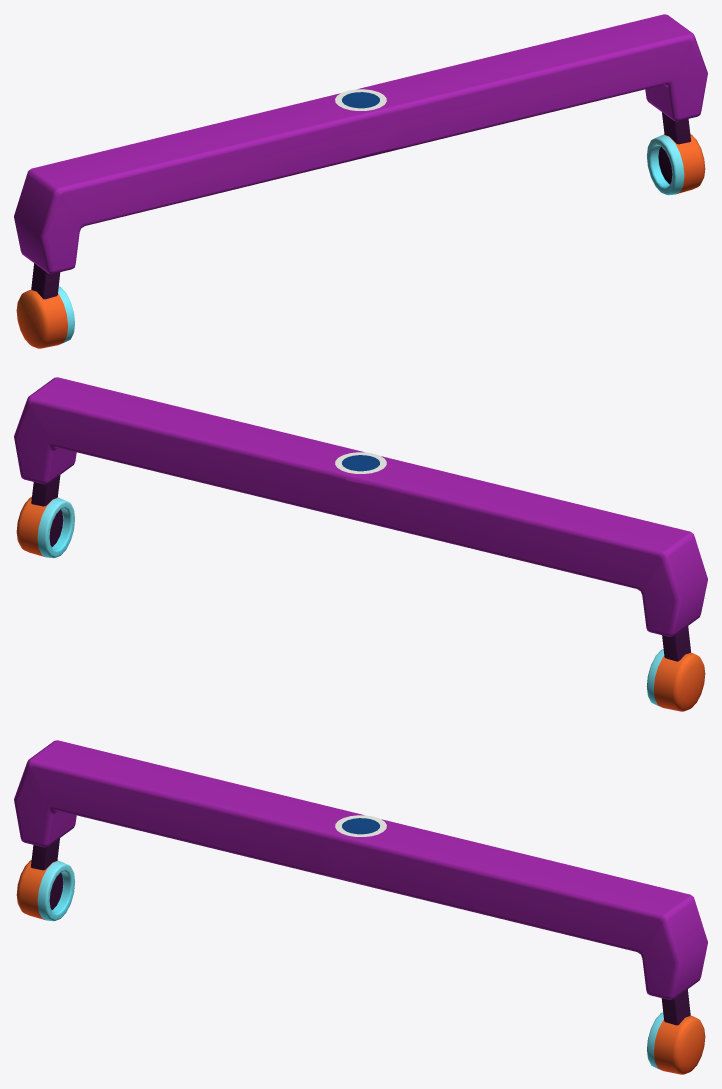
3 views of the same model, one above another, from view 1: azimuth 30°, elevation 25°; view 2: azimuth 150°, elevation 25°; view 3: azimuth 330°, elevation 25° (orthographic).
Parts seen in each view (by area): view 1: shape2_7, top_cycle; view 2: shape2_7, top_cycle; view 3: shape2_7, top_cycle.
Boxes of the visible parts, box(x1,y1,x2,y2) form: shape2_7: box(14, 14, 707, 348); top_cycle: box(335, 89, 386, 110); shape2_7: box(14, 377, 707, 711); top_cycle: box(335, 452, 386, 473); shape2_7: box(14, 740, 707, 1074); top_cycle: box(335, 815, 386, 836).
Bounding box in the file's own units: 62.98 × 15.06 × 5.
